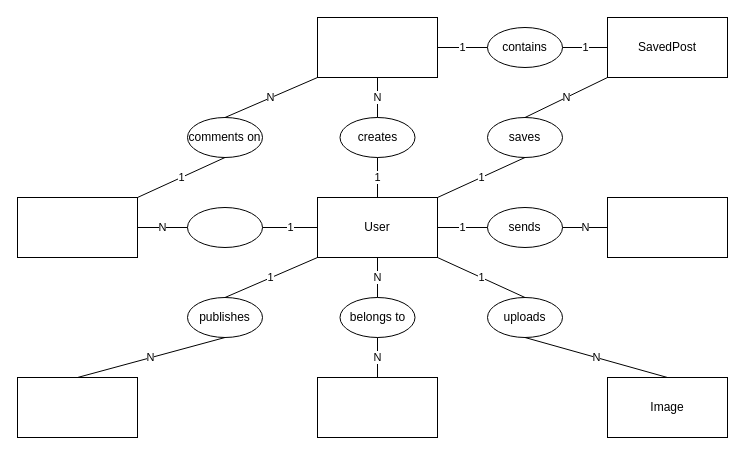
Image size: 745x455. Some labels were removed from this diagram. Each missing label, with the box of its shape:
Article: (16, 376, 138, 438)
Comment: (16, 196, 138, 258)
Community: (316, 376, 438, 438)
Message: (606, 196, 728, 258)
Post: (316, 16, 438, 78)
writes: (186, 206, 262, 248)
